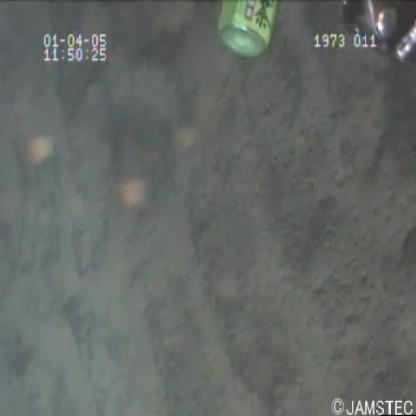Rác: (214, 2, 287, 65)
